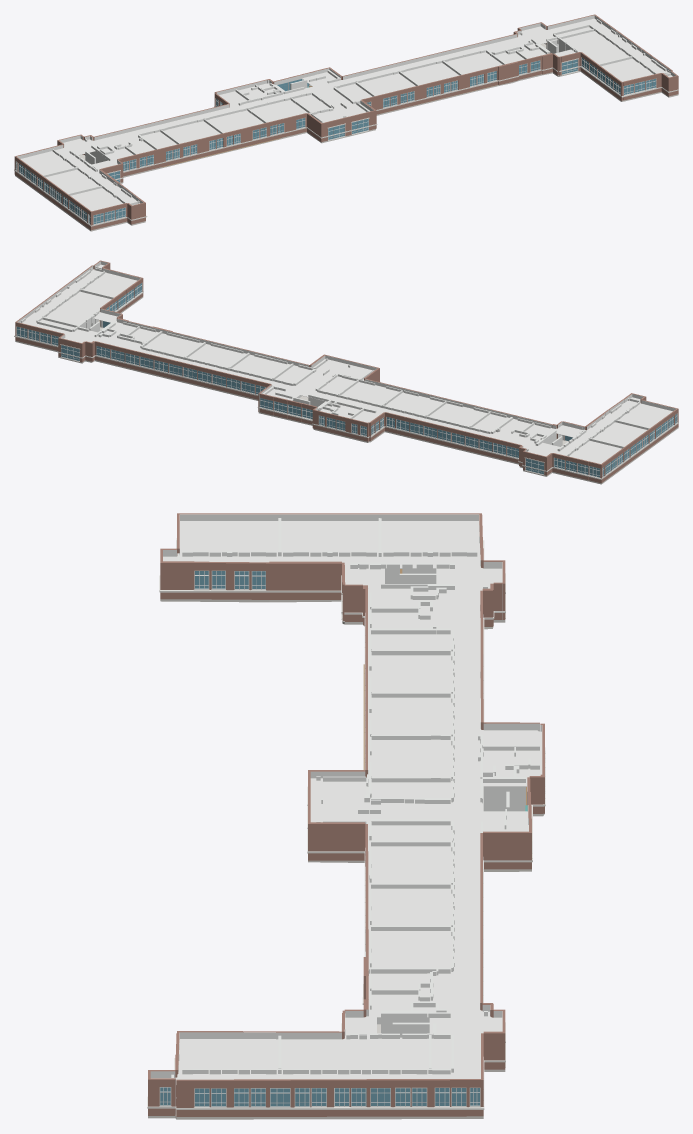
File: main_1F.glb
3 renders of one model, top to bottom at view 1: azimuth 30°, elevation 25°; view 2: azimuth 150°, elevation 25°; view 3: azimuth 270°, elevation 25°, orthographic. The views are drawn at different scales.
Visible parts, largest first — view 1: main_1F__ceil, main_1F__brick, main_1F__wallIn, main_1F__glass, main_1F__frameW, main_1F__white, main_1F__corrFloor, main_1F__rail; view 2: main_1F__ceil, main_1F__brick, main_1F__wallIn, main_1F__glass, main_1F__frameW, main_1F__white, main_1F__corrFloor, main_1F__rail; view 3: main_1F__ceil, main_1F__brick, main_1F__wallIn, main_1F__glass, main_1F__white, main_1F__frameW, main_1F__corrFloor.
Part boxes in pixels (x1,y1,x2,y2): main_1F__ceil: [20, 18, 672, 211]; main_1F__brick: [14, 14, 678, 230]; main_1F__wallIn: [15, 15, 676, 205]; main_1F__glass: [16, 57, 655, 224]; main_1F__frameW: [15, 57, 656, 224]; main_1F__white: [14, 58, 678, 226]; main_1F__corrFloor: [15, 43, 678, 231]; main_1F__rail: [16, 64, 655, 222]; main_1F__ceil: [22, 264, 672, 463]; main_1F__brick: [15, 260, 678, 483]; main_1F__wallIn: [16, 261, 676, 456]; main_1F__glass: [17, 283, 677, 477]; main_1F__frameW: [16, 283, 677, 477]; main_1F__white: [14, 291, 678, 479]; main_1F__corrFloor: [15, 296, 678, 484]; main_1F__rail: [17, 290, 677, 475]; main_1F__ceil: [151, 521, 541, 1084]; main_1F__brick: [148, 513, 544, 1116]; main_1F__wallIn: [150, 514, 542, 1114]; main_1F__glass: [160, 571, 479, 1106]; main_1F__white: [147, 540, 545, 1109]; main_1F__frameW: [159, 570, 480, 1107]; main_1F__corrFloor: [148, 599, 544, 1119].
Size of the model in its own units: 121 by 3.85 by 35.75.
